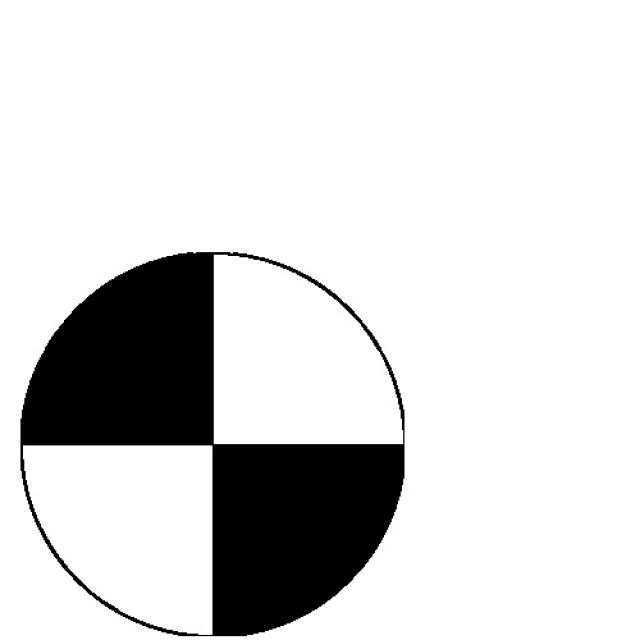Marcadores: (21, 254, 406, 636)
